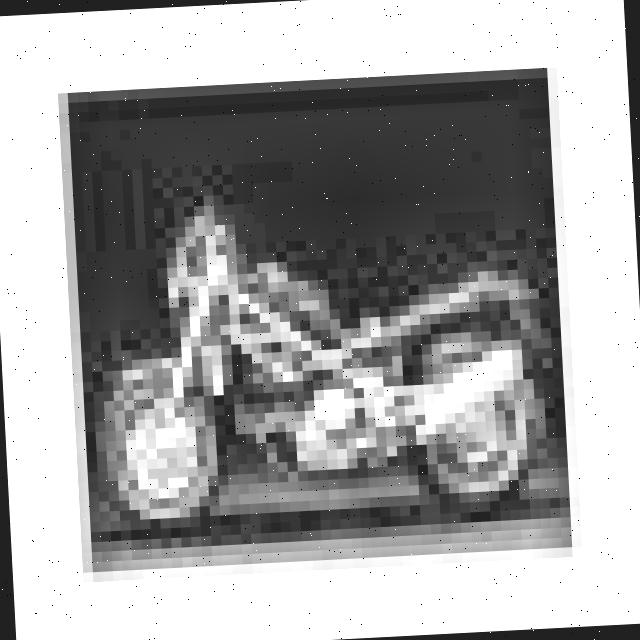mopeds: (83, 172, 550, 550)
